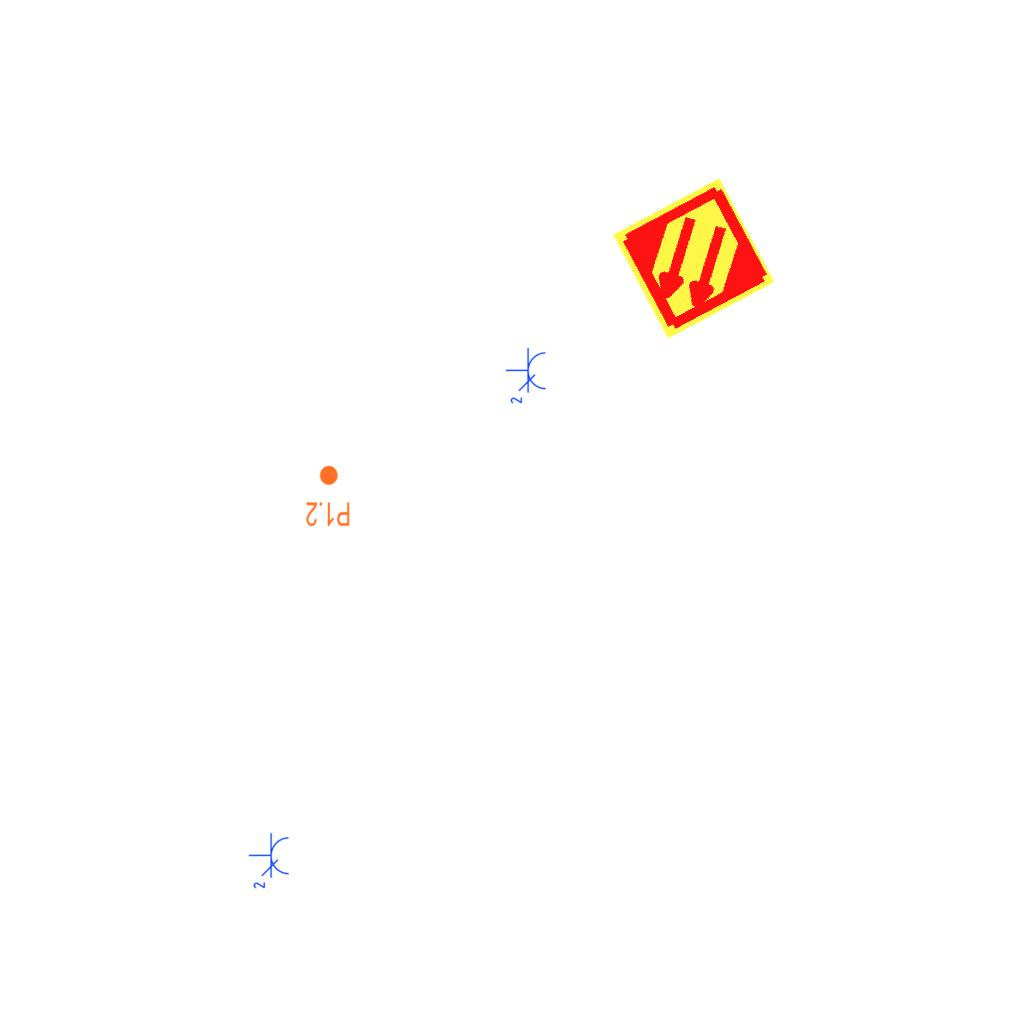ASR_Ansaugrauchmelder: (608, 173, 779, 344)
Downlight_LED_Einbauleuchten_Flur: (305, 464, 351, 528)
Schukosteckdose_mehrfach: (505, 347, 549, 407), (248, 832, 292, 892)
